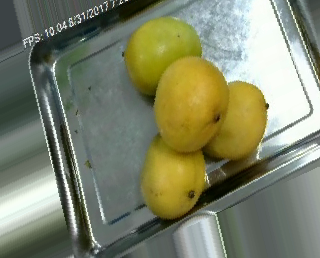Mango: (154, 56, 228, 153), (123, 17, 202, 94), (141, 132, 205, 219), (205, 79, 267, 160)
